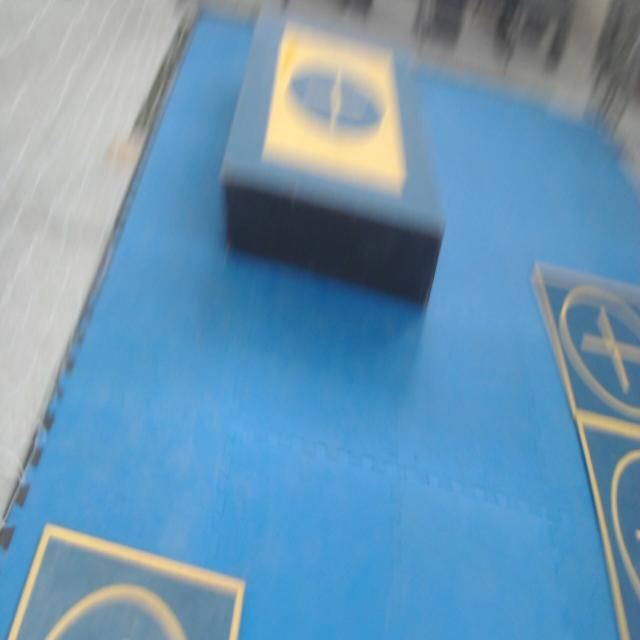base_inicio: (260, 22, 405, 199)
base_pouso: (6, 522, 246, 639), (533, 262, 640, 430), (576, 414, 640, 636)
